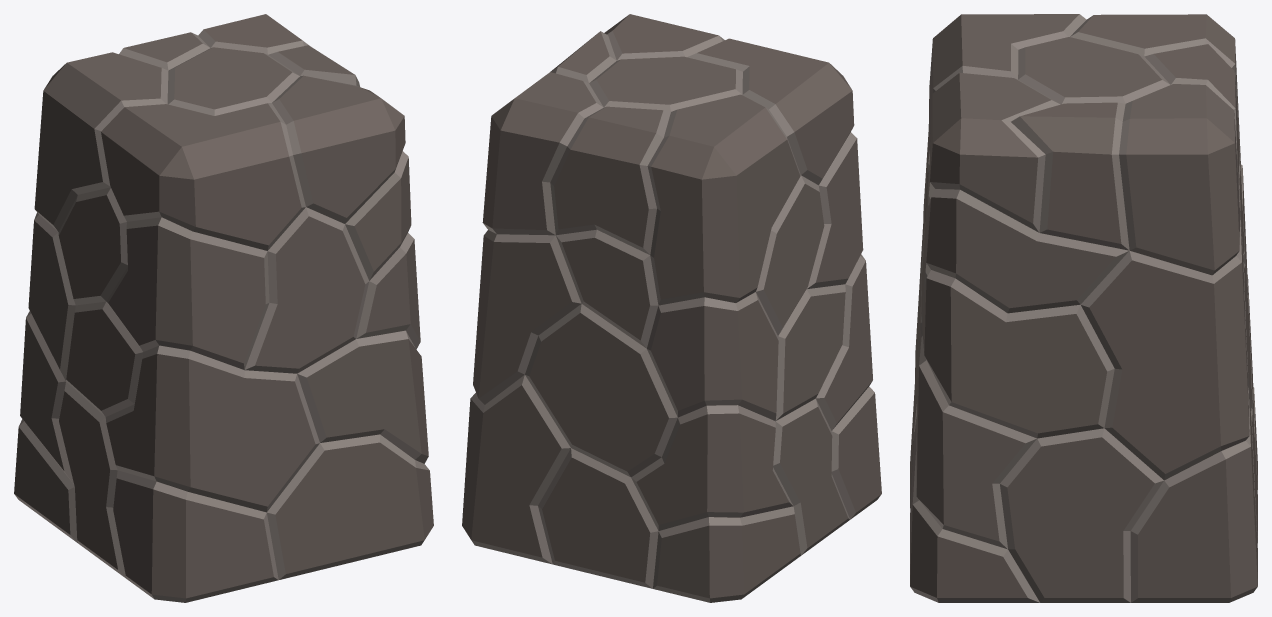
The model's file is Basement_Column.fbx.
3 renders of one model, left to right at view 1: azimuth 30°, elevation 25°; view 2: azimuth 150°, elevation 25°; view 3: azimuth 270°, elevation 25°, orthographic. The views are drawn at different scales.
Parts seen in each view (by area): view 1: Basement_Short; view 2: Basement_Short; view 3: Basement_Short.
Part boxes in pixels (x1,y1,x2,y2): Basement_Short: (14, 14, 433, 602); Basement_Short: (462, 14, 881, 602); Basement_Short: (910, 14, 1257, 602).
Size of the model in its own units: 0.7186 by 0.7186 by 1.07.
